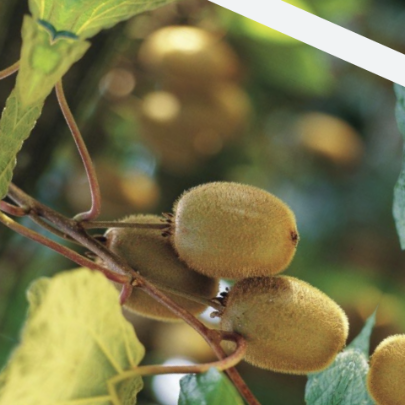kiwi: (190, 235, 370, 404), (75, 188, 249, 344), (149, 151, 318, 308)
